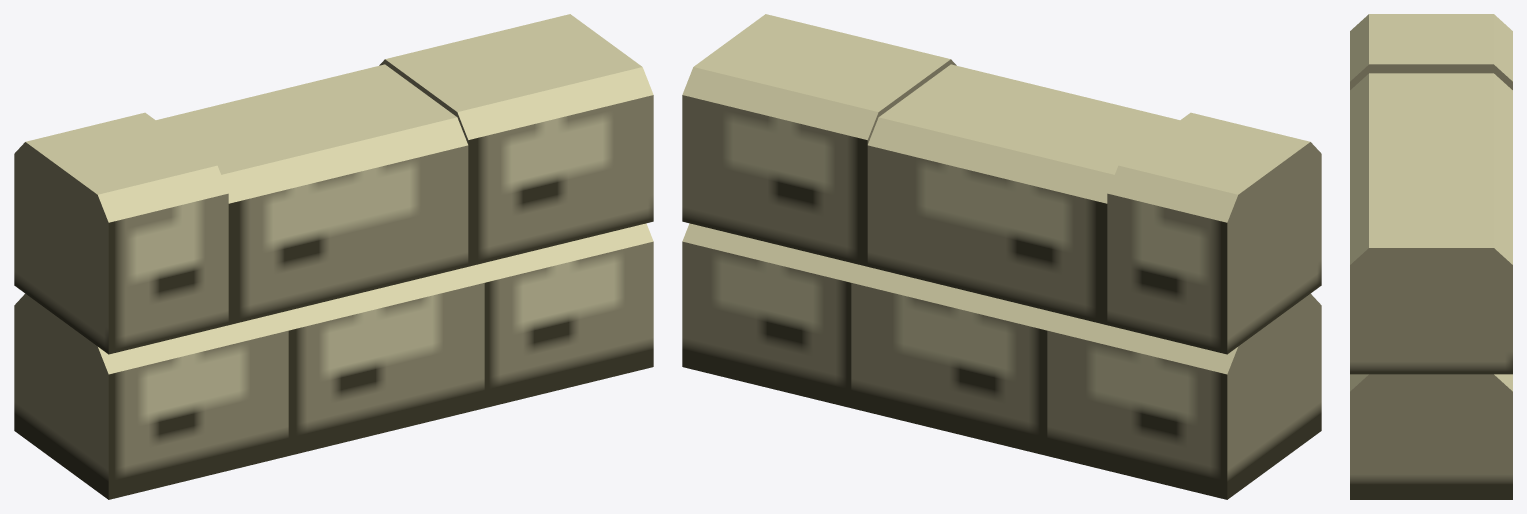
The picture shows the model from 3 angles, left to right: view 1: azimuth 30°, elevation 25°; view 2: azimuth 150°, elevation 25°; view 3: azimuth 270°, elevation 25°; orthographic projection. The views are drawn at different scales.
Parts seen in each view (by area): view 1: prop; view 2: prop; view 3: prop.
Part boxes in pixels (bbox=[...]): prop: bbox=[14, 14, 653, 499]; prop: bbox=[682, 14, 1321, 499]; prop: bbox=[1350, 14, 1512, 499].
Size of the model in its own units: 1 by 0.521 by 0.3.
1 material, 1 textured.
